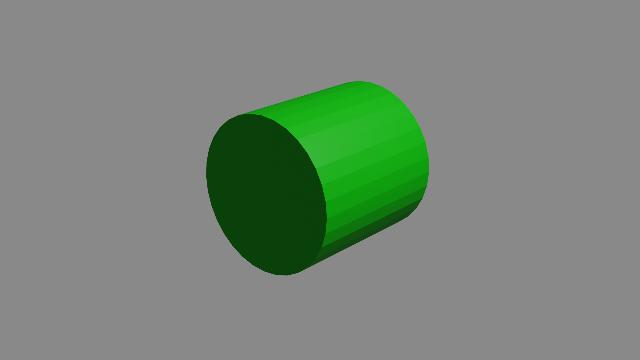Cylinder: (200, 66, 432, 280)
